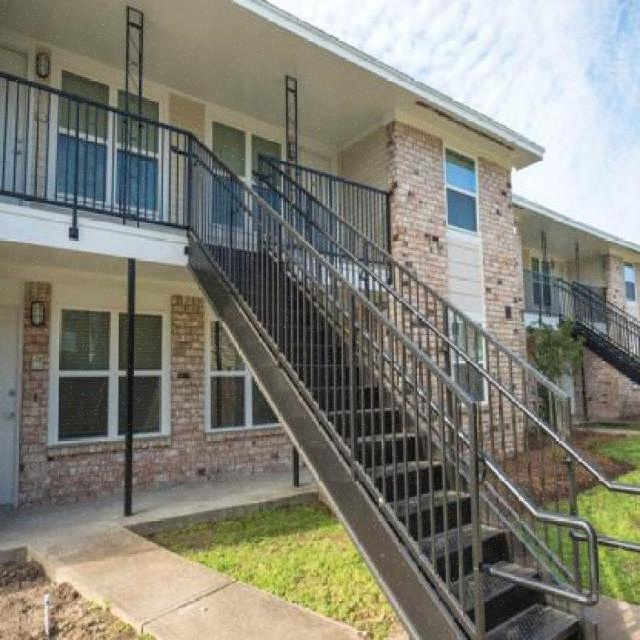stair: (152, 125, 638, 640)
